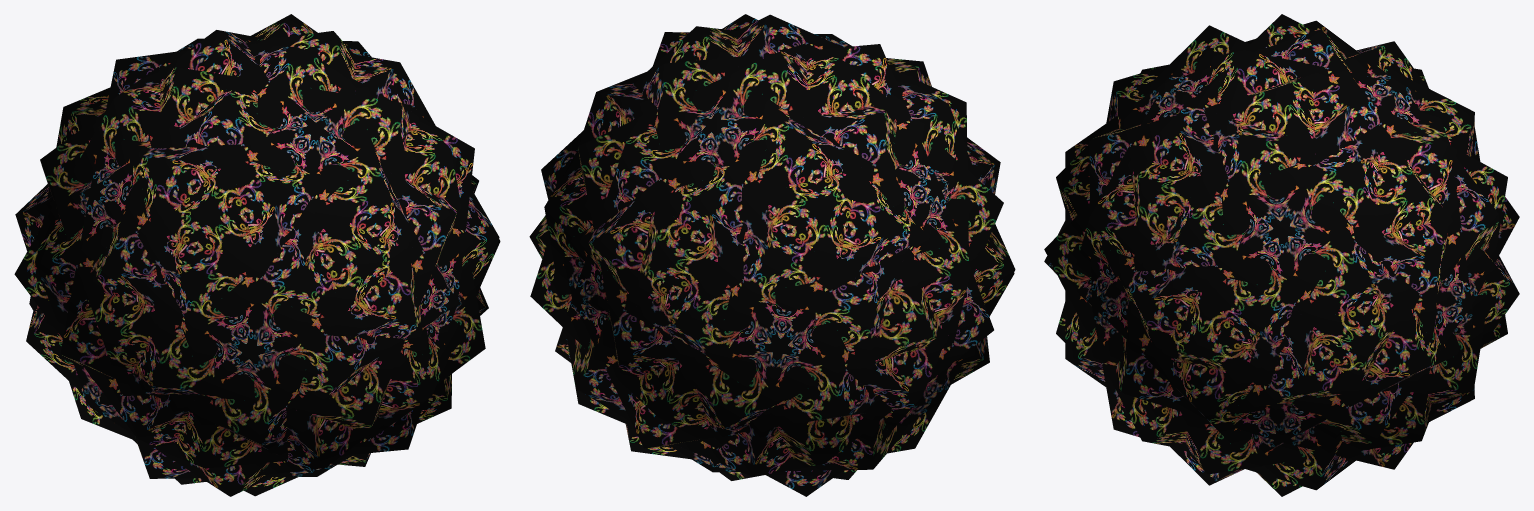
File: 9GreatPentagonalHexecontahedron.gltf
3 renders of one model, left to right at view 1: azimuth 30°, elevation 25°; view 2: azimuth 150°, elevation 25°; view 3: azimuth 270°, elevation 25°, orthographic.
Parts seen in each view (by area): view 1: 7GreatPentagonalHexecontahedron; view 2: 7GreatPentagonalHexecontahedron; view 3: 7GreatPentagonalHexecontahedron.
Part boxes in pixels (x1=…): 7GreatPentagonalHexecontahedron: x1=14, y1=14, x2=500, y2=496; 7GreatPentagonalHexecontahedron: x1=529, y1=14, x2=1015, y2=496; 7GreatPentagonalHexecontahedron: x1=1044, y1=14, x2=1519, y2=496.
Size of the model in its own units: 1.42 by 1.42 by 1.42.
1 material, 1 textured.
